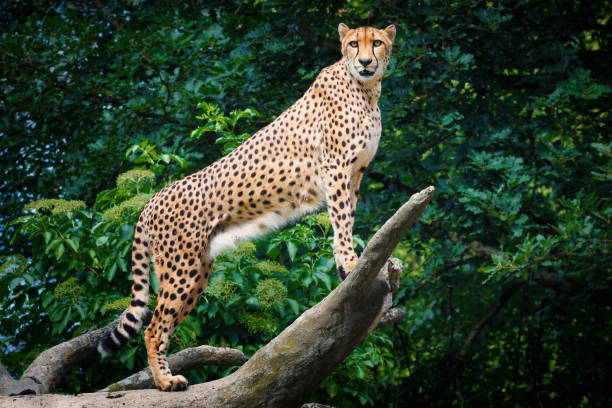cheetah: (332, 15, 411, 98)
